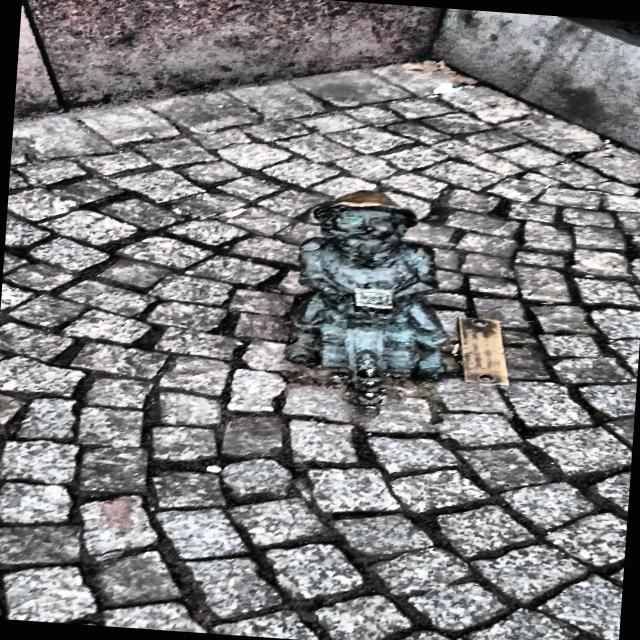Automatek: (288, 190, 447, 414)
